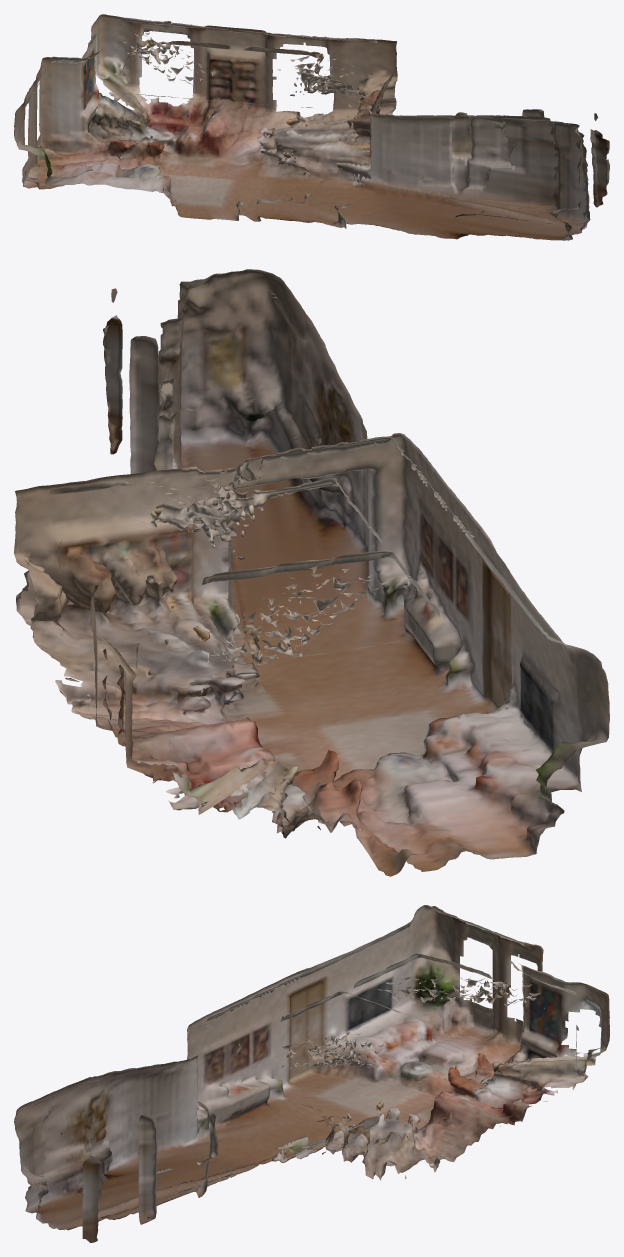
The model's file is living_room_collider.glb.
The picture shows the model from 3 angles, top to bottom: view 1: azimuth 30°, elevation 25°; view 2: azimuth 150°, elevation 25°; view 3: azimuth 270°, elevation 25°; orthographic projection. The views are drawn at different scales.
Visible parts, largest first — view 1: world; view 2: world; view 3: world.
Boxes of the visible parts, x1=… form: world: x1=14, y1=14, x2=609, y2=240; world: x1=14, y1=269, x2=609, y2=876; world: x1=14, y1=905, x2=609, y2=1242.
Bounding box in the file's own units: 15.95 × 3.75 × 16.57.
